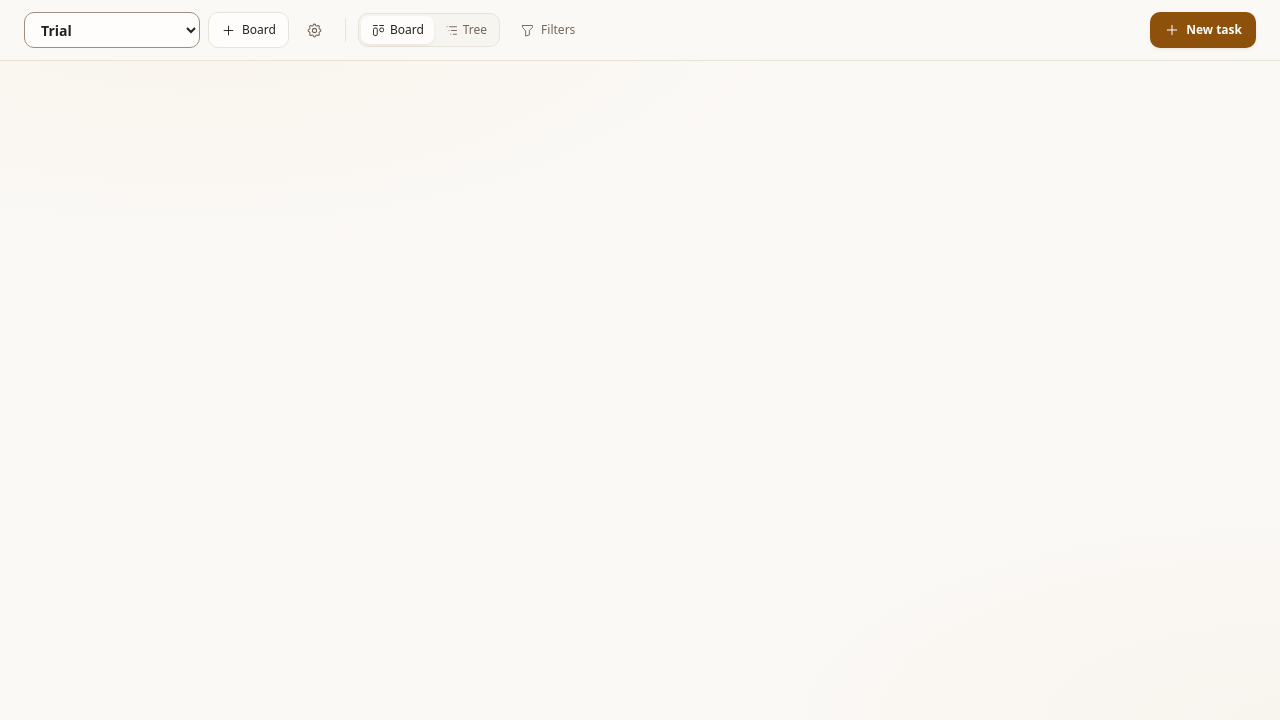
Scenario: BoardToolbar concurrency limits › prefills the concurrency inputs from the board (null → blank)
Click the button named "Board settings" at (315, 30), box [297, 12, 333, 48]
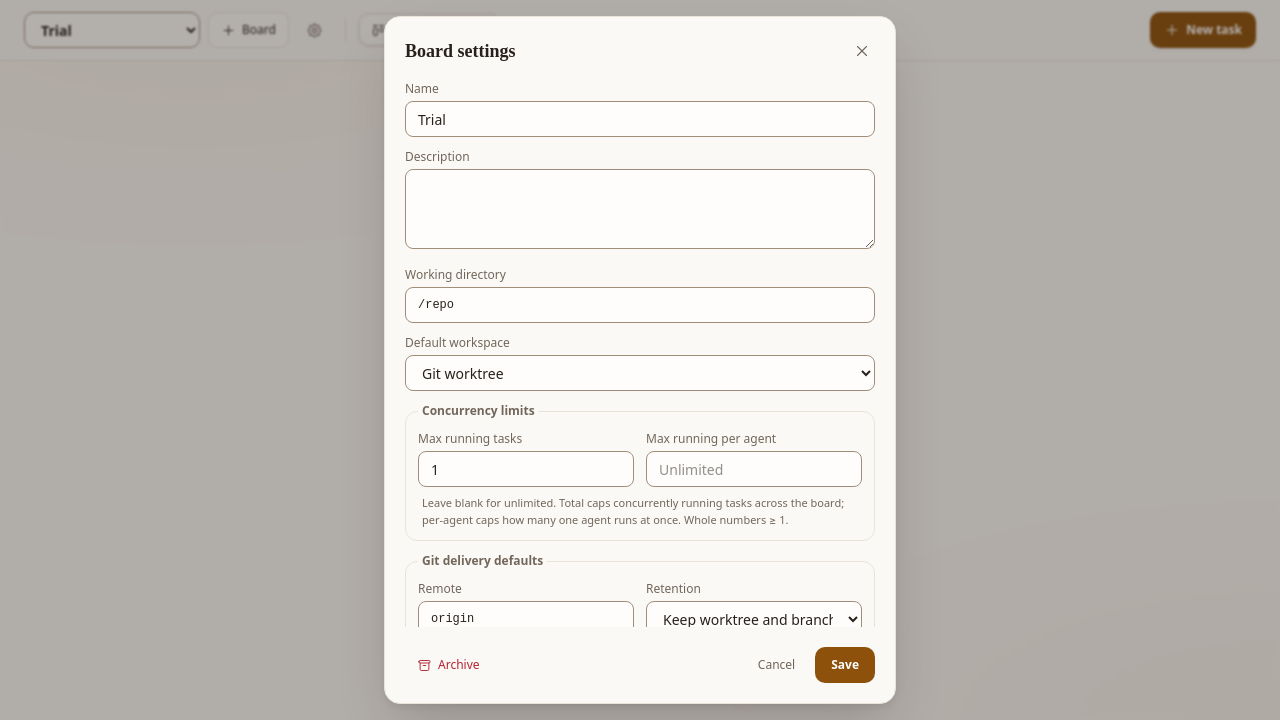
Expected: the number field labelled "Max running tasks" holds "1", [418, 451, 634, 487]
Expected: the number field labelled "Max running per agent" is not empty, [646, 451, 862, 487]
